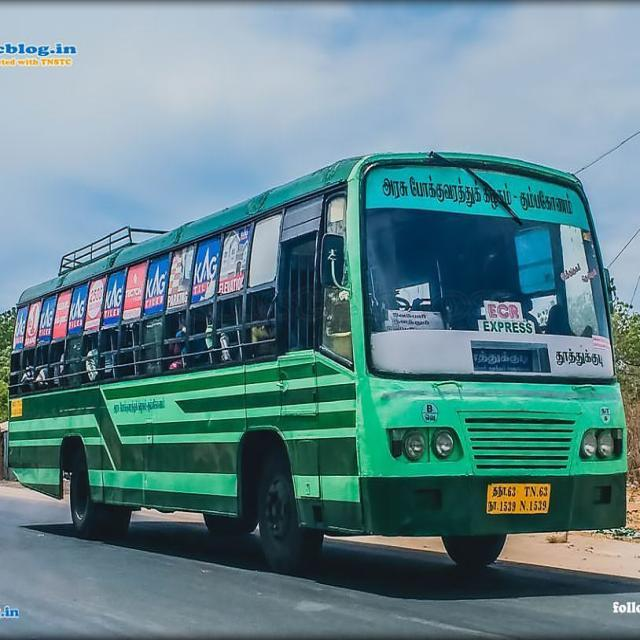Bus: (2, 151, 634, 578)
